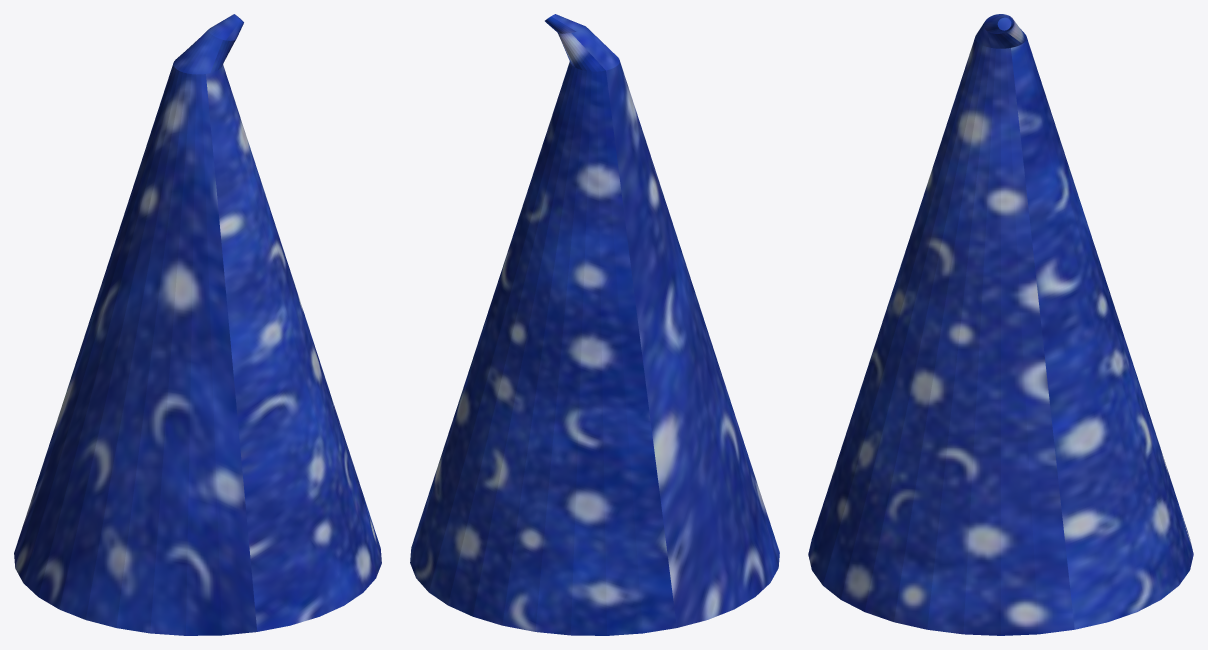
The model's file is wizardv_3.fbx.
3 renders of one model, left to right at view 1: azimuth 30°, elevation 25°; view 2: azimuth 150°, elevation 25°; view 3: azimuth 270°, elevation 25°, orthographic. The views are drawn at different scales.
Visible parts, largest first — view 1: Circle; view 2: Circle; view 3: Circle.
Boxes of the visible parts, x1,y1,x2,y2 form: Circle: (14, 14, 381, 635); Circle: (410, 14, 779, 635); Circle: (808, 14, 1193, 635).
Size of the model in its own units: 9.12 by 14.53 by 9.12.
